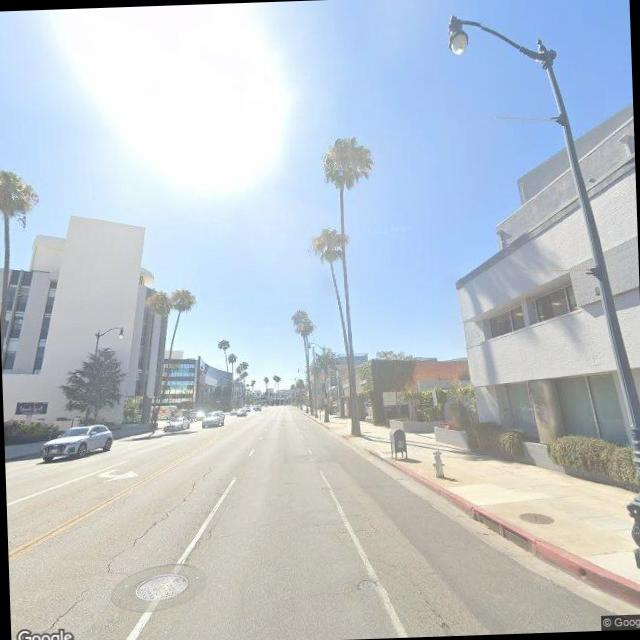crack: (100, 473, 208, 569), (39, 585, 91, 631), (346, 510, 394, 538)
